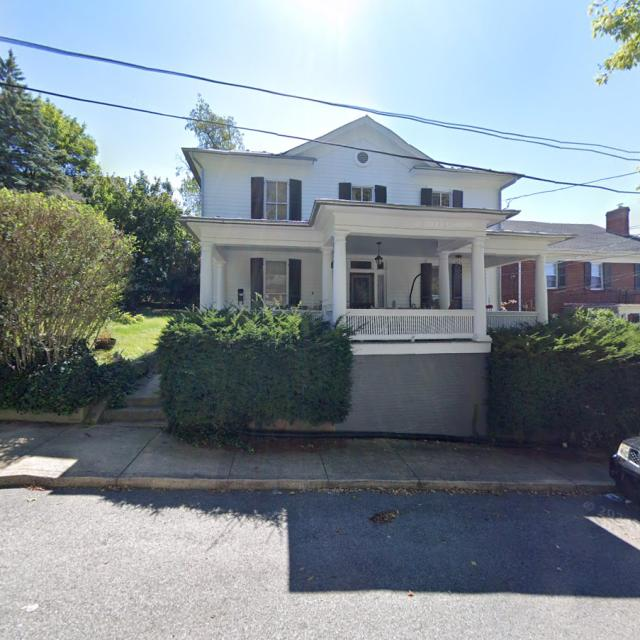House: (178, 116, 640, 439)
